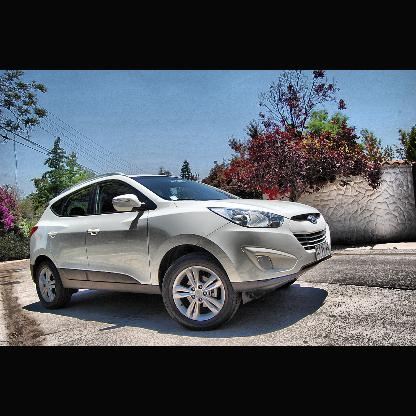Hyundai Tucson SUV 2012: (29, 171, 336, 334)
